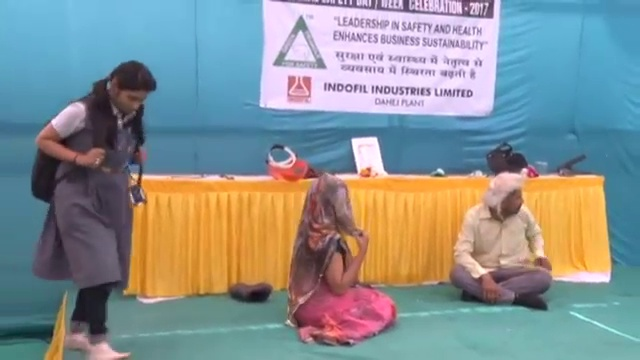helmet_off: (302, 176, 359, 236), (100, 62, 158, 119), (484, 171, 527, 219)
person: (27, 58, 158, 360), (285, 174, 399, 347), (446, 171, 556, 313)
